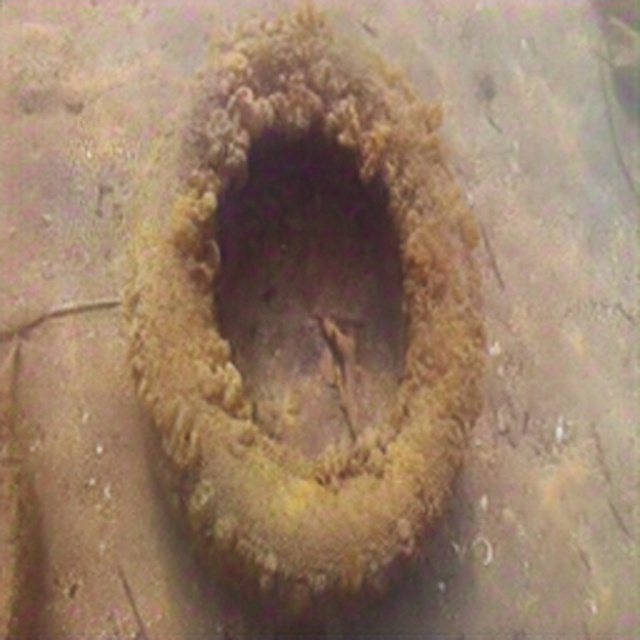mine: (136, 28, 481, 616)
